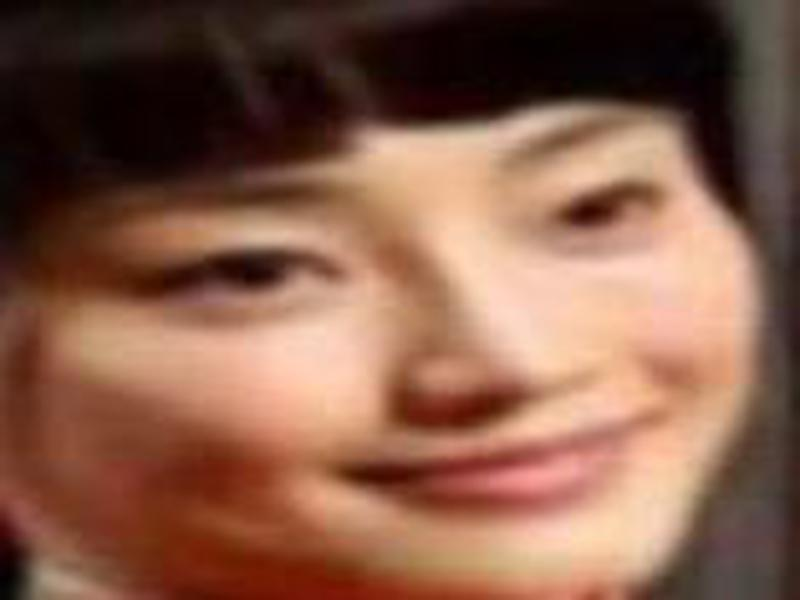without_mask: (23, 99, 759, 600)
